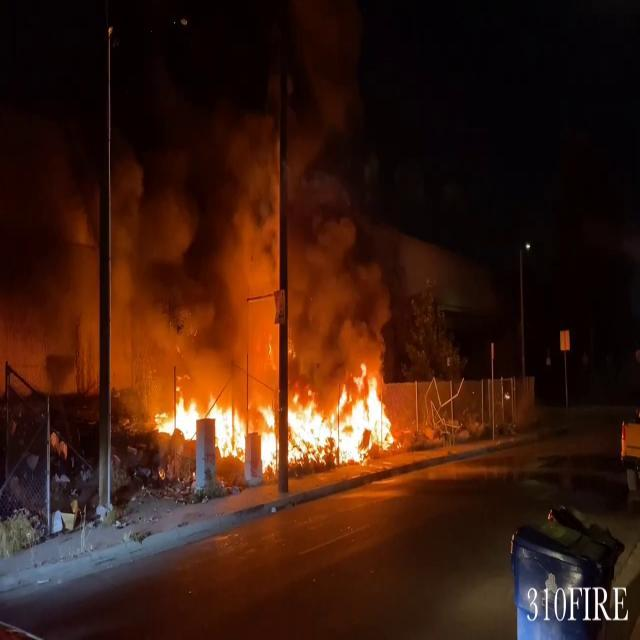Fire: (150, 370, 398, 472)
Smoke: (0, 71, 396, 379)
